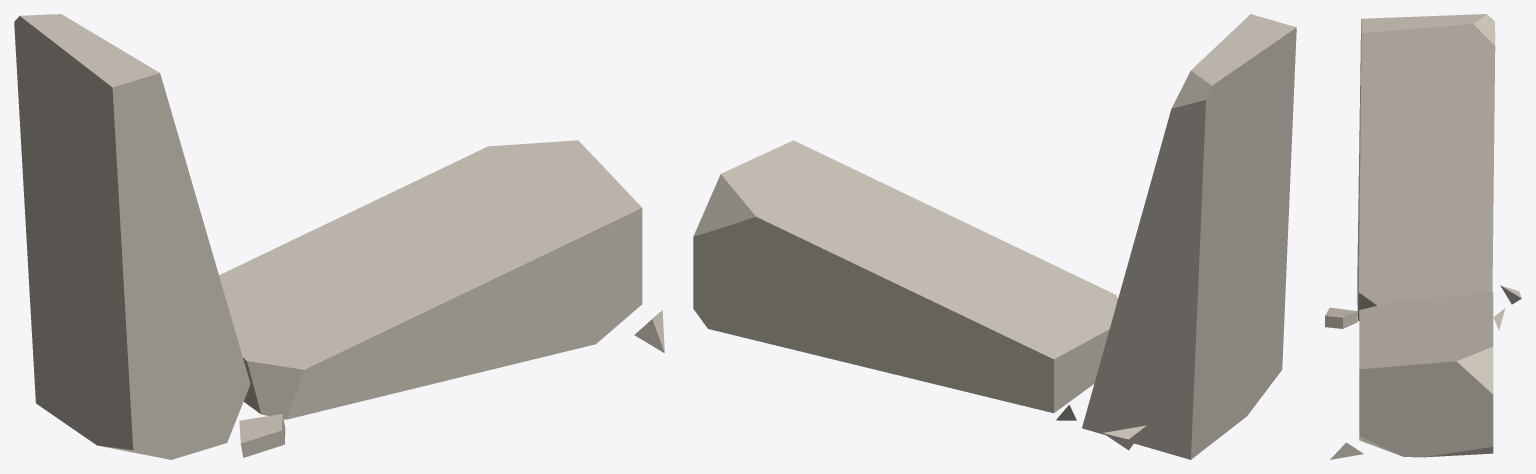
File: Rock_Square_crk_m_04.fbx
The picture shows the model from 3 angles, left to right: view 1: azimuth 30°, elevation 25°; view 2: azimuth 150°, elevation 25°; view 3: azimuth 270°, elevation 25°; orthographic projection. The views are drawn at different scales.
Visible parts, largest first — view 1: Rock_Square_crk_m_04; view 2: Rock_Square_crk_m_04; view 3: Rock_Square_crk_m_04.
Part boxes in pixels (x1=…): Rock_Square_crk_m_04: x1=14, y1=14, x2=664, y2=459; Rock_Square_crk_m_04: x1=693, y1=14, x2=1296, y2=459; Rock_Square_crk_m_04: x1=1325, y1=14, x2=1521, y2=459.
Size of the model in its own units: 143 by 97.48 by 63.46.
